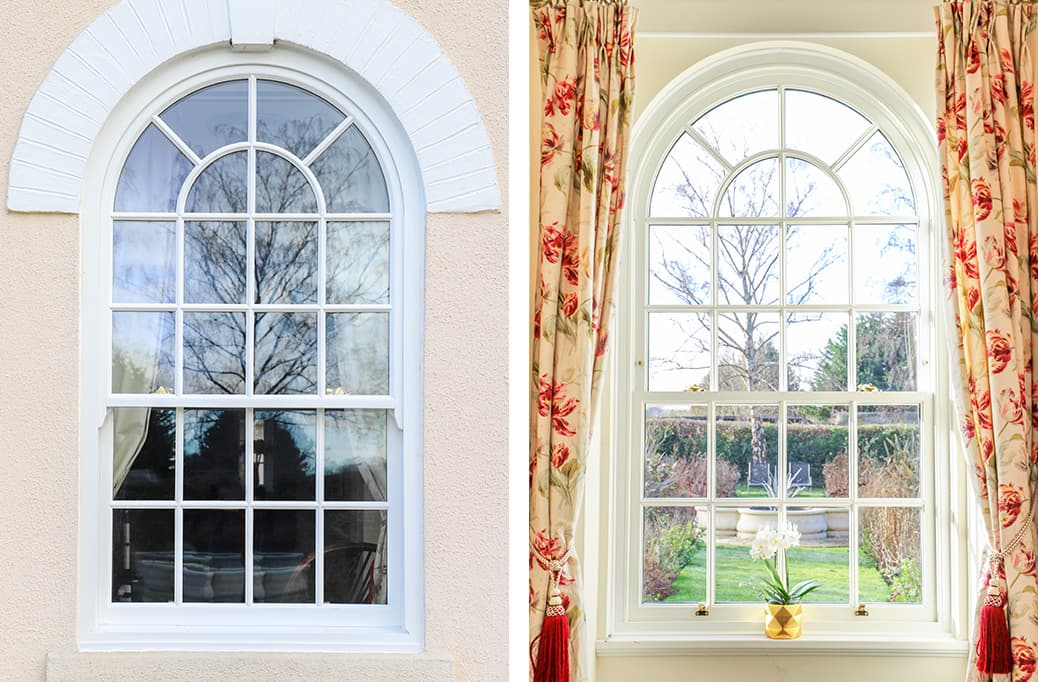Window: (612, 41, 966, 639), (82, 42, 420, 644)
